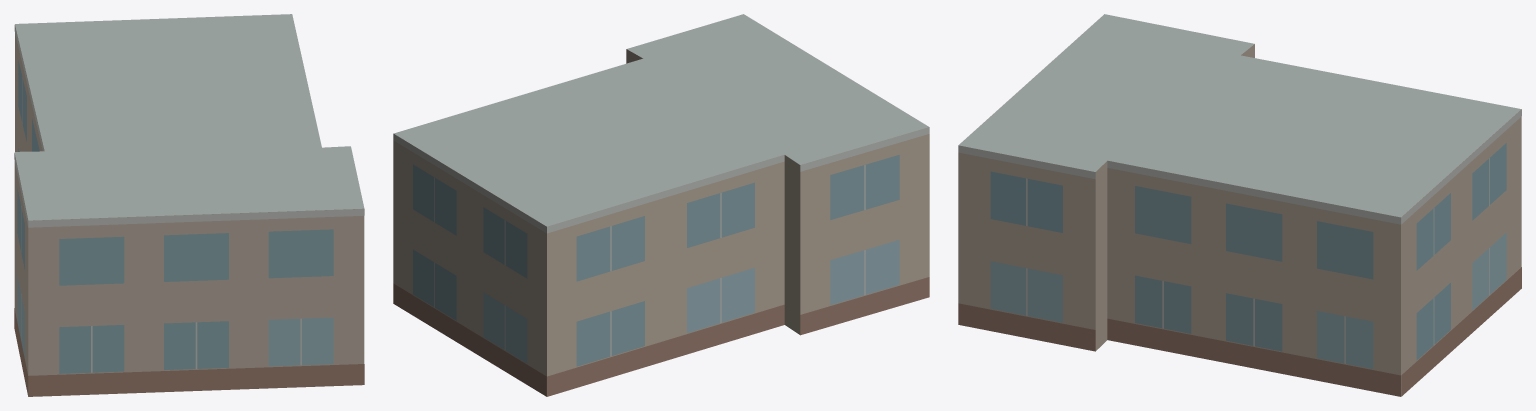
The model's file is survey-upis-32793417.glb.
3 views of the same model, side by side, from view 1: azimuth 30°, elevation 25°; view 2: azimuth 150°, elevation 25°; view 3: azimuth 270°, elevation 25° (orthographic). The views are drawn at different scales.
Parts seen in each view (by area): view 1: survey-upis-32793417.tmp; view 2: survey-upis-32793417.tmp; view 3: survey-upis-32793417.tmp.
Part boxes in pixels (<box>): survey-upis-32793417.tmp: <box>14,14,364,396</box>; survey-upis-32793417.tmp: <box>393,14,929,396</box>; survey-upis-32793417.tmp: <box>958,14,1521,396</box>.
Bounding box in the file's own units: 14.84 × 6.1 × 17.37.
